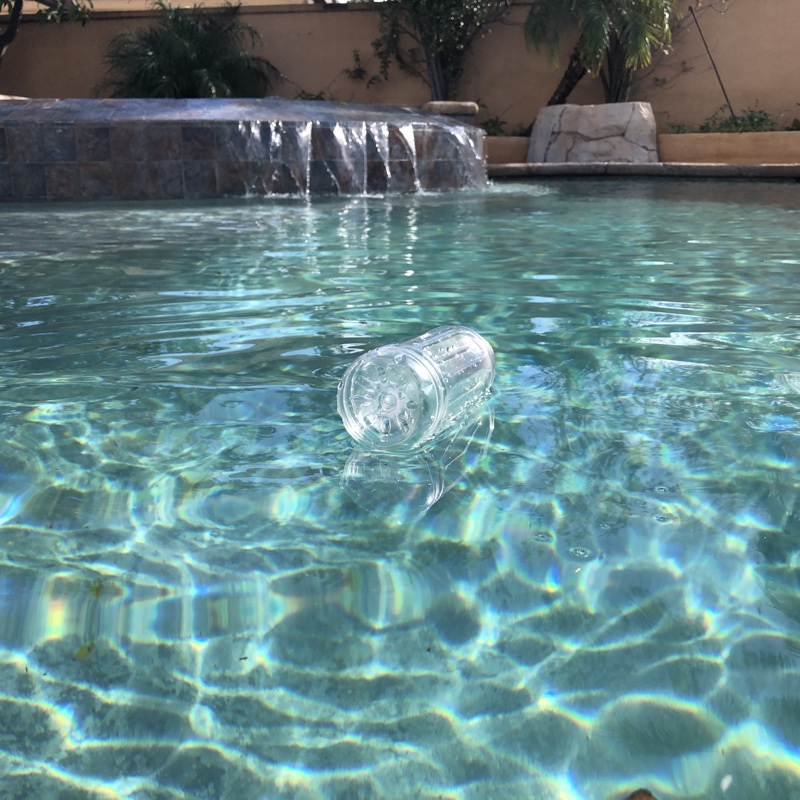Plastic Bottle: (329, 323, 508, 450)
